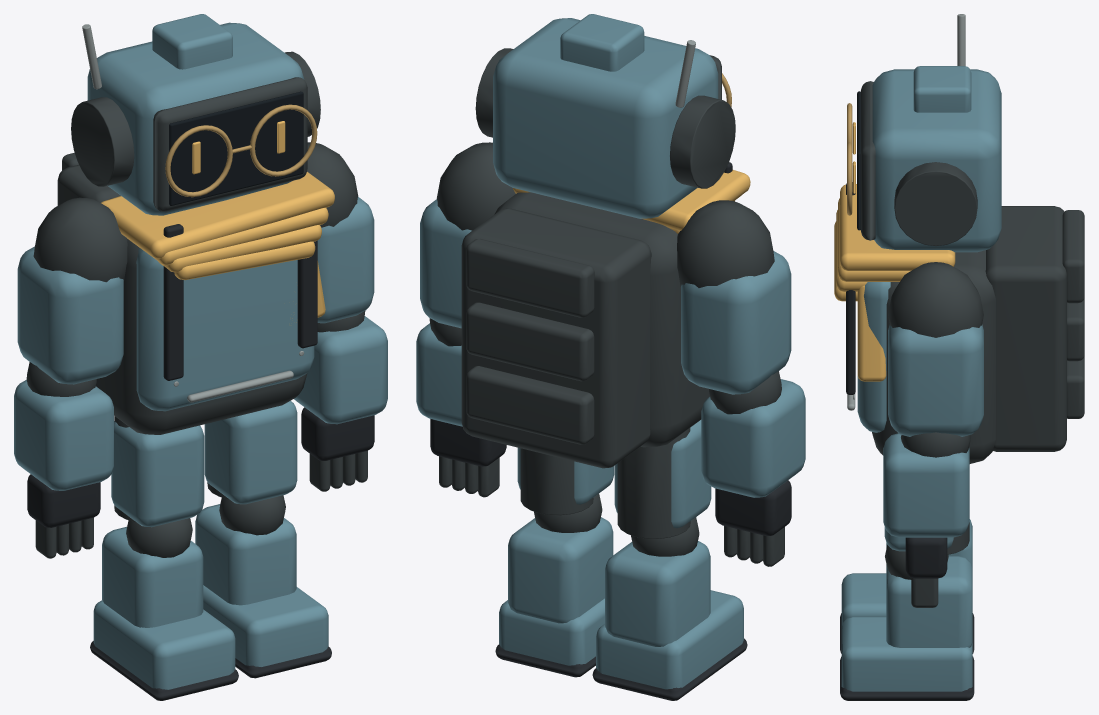
Rendered from NPC_SupplyClerk.fbx.
3 renders of one model, left to right at view 1: azimuth 30°, elevation 25°; view 2: azimuth 150°, elevation 25°; view 3: azimuth 270°, elevation 25°, orthographic. The views are drawn at different scales.
Visible parts, largest first — view 1: NPC_SupplyClerk_BobbyBody, NPC_SupplyClerk_BobbyHead, NPC_SupplyClerk_BobbyLeftArm, NPC_SupplyClerk_BobbyRightArm; view 2: NPC_SupplyClerk_BobbyBody, NPC_SupplyClerk_BobbyHead, NPC_SupplyClerk_BobbyLeftArm, NPC_SupplyClerk_BobbyRightArm; view 3: NPC_SupplyClerk_BobbyBody, NPC_SupplyClerk_BobbyHead, NPC_SupplyClerk_BobbyRightArm.
Boxes of the visible parts, x1,y1,x2,y2 form: NPC_SupplyClerk_BobbyBody: (57,152,334,700); NPC_SupplyClerk_BobbyHead: (71,14,320,215); NPC_SupplyClerk_BobbyLeftArm: (14,197,127,558); NPC_SupplyClerk_BobbyRightArm: (294,142,387,491); NPC_SupplyClerk_BobbyBody: (461,162,750,700); NPC_SupplyClerk_BobbyHead: (475,14,735,218); NPC_SupplyClerk_BobbyLeftArm: (677,200,805,566); NPC_SupplyClerk_BobbyRightArm: (416,142,515,497); NPC_SupplyClerk_BobbyBody: (834,182,1084,700); NPC_SupplyClerk_BobbyHead: (847,14,1001,252); NPC_SupplyClerk_BobbyRightArm: (883,262,983,607).
Size of the model in its own units: 0.9594 by 1.71 by 0.6421.
